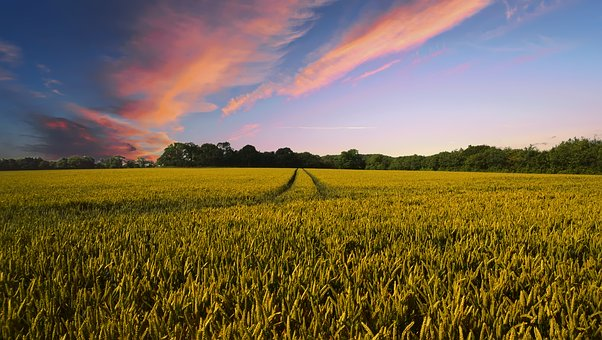field: (5, 162, 597, 338)
sky: (1, 1, 600, 168)
